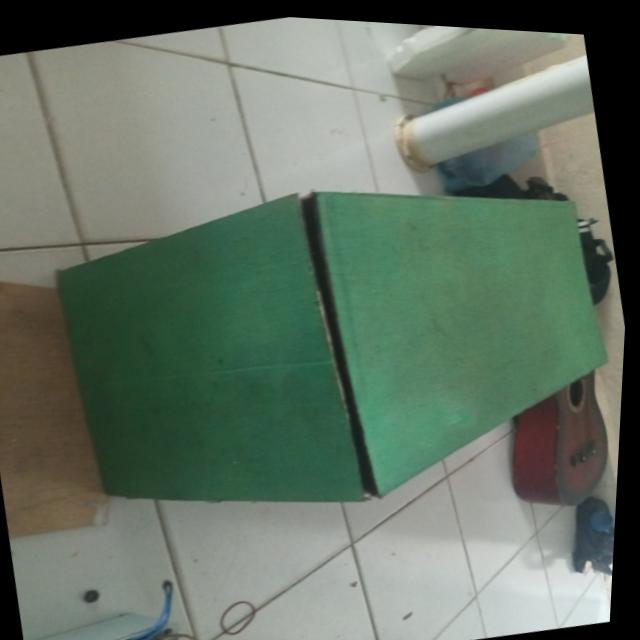green_box: (0, 89, 636, 566)
